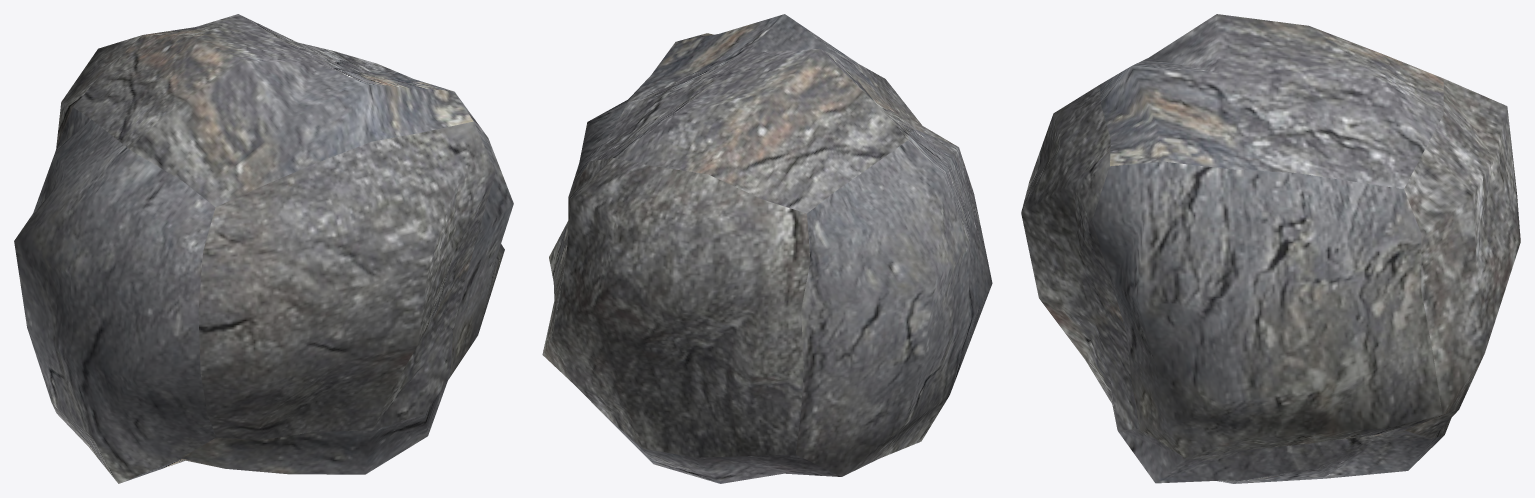
The model's file is japanese_rock_02.FBX.
3 views of the same model, side by side, from view 1: azimuth 30°, elevation 25°; view 2: azimuth 150°, elevation 25°; view 3: azimuth 270°, elevation 25° (orthographic). The views are drawn at different scales.
Visible parts, largest first — view 1: rock_02; view 2: rock_02; view 3: rock_02.
Boxes of the visible parts, bbox=[...] form: rock_02: bbox=[14, 14, 513, 483]; rock_02: bbox=[542, 14, 992, 483]; rock_02: bbox=[1021, 14, 1520, 483].
Bounding box in the file's own units: 111 × 100 × 107.
